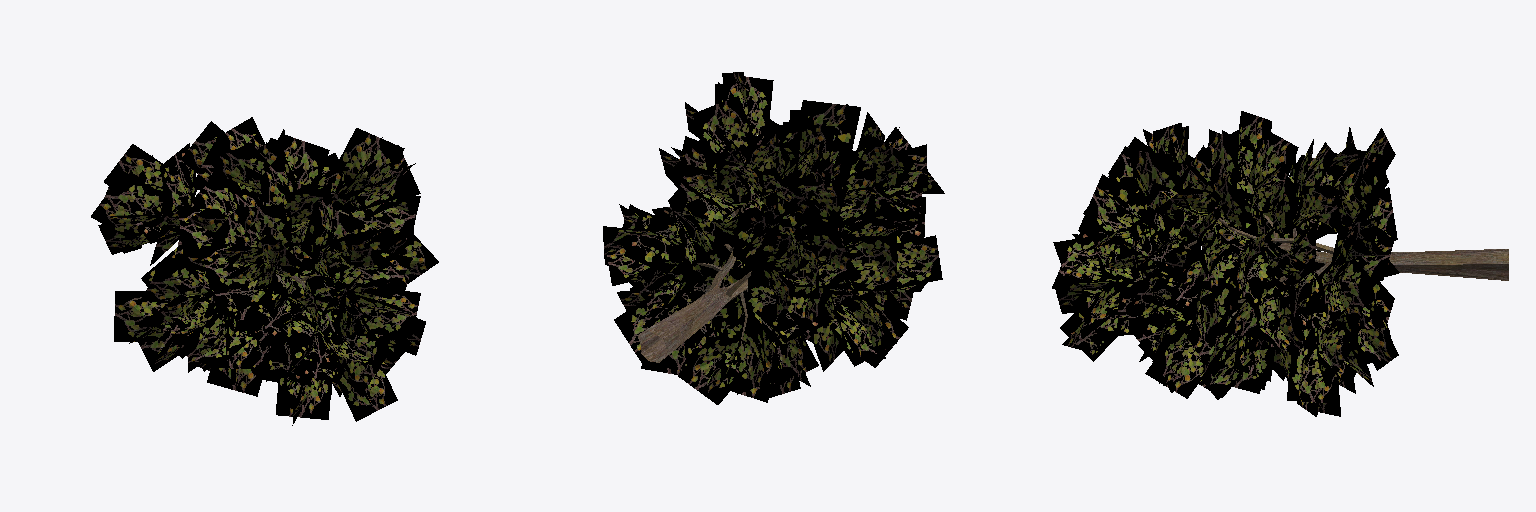
The picture shows the model from 3 angles: view 1: azimuth 30°, elevation 25°; view 2: azimuth 150°, elevation 25°; view 3: azimuth 270°, elevation 25°; orthographic projection.
Parts seen in each view (by area): view 1: rdmobj00; view 2: rdmobj00; view 3: rdmobj00.
Part boxes in pixels (bbox=[...]): rdmobj00: bbox=[91, 117, 438, 425]; rdmobj00: bbox=[603, 72, 944, 404]; rdmobj00: bbox=[1052, 111, 1508, 416].
Bounding box in the file's own units: 1175 × 1119 × 1640.
Materials: 1 (1 with a texture image).